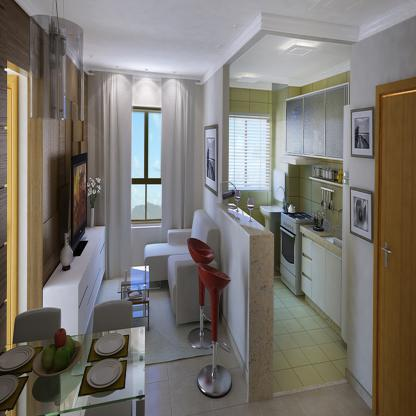door: (374, 95, 416, 415)
lever: (380, 247, 393, 255)
